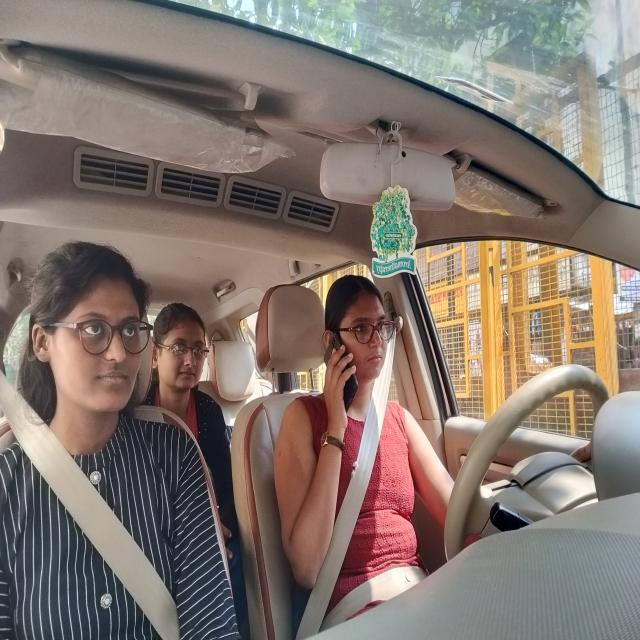mobile: (320, 331, 359, 404)
person: (14, 230, 158, 442), (308, 257, 408, 420), (141, 286, 220, 413)
